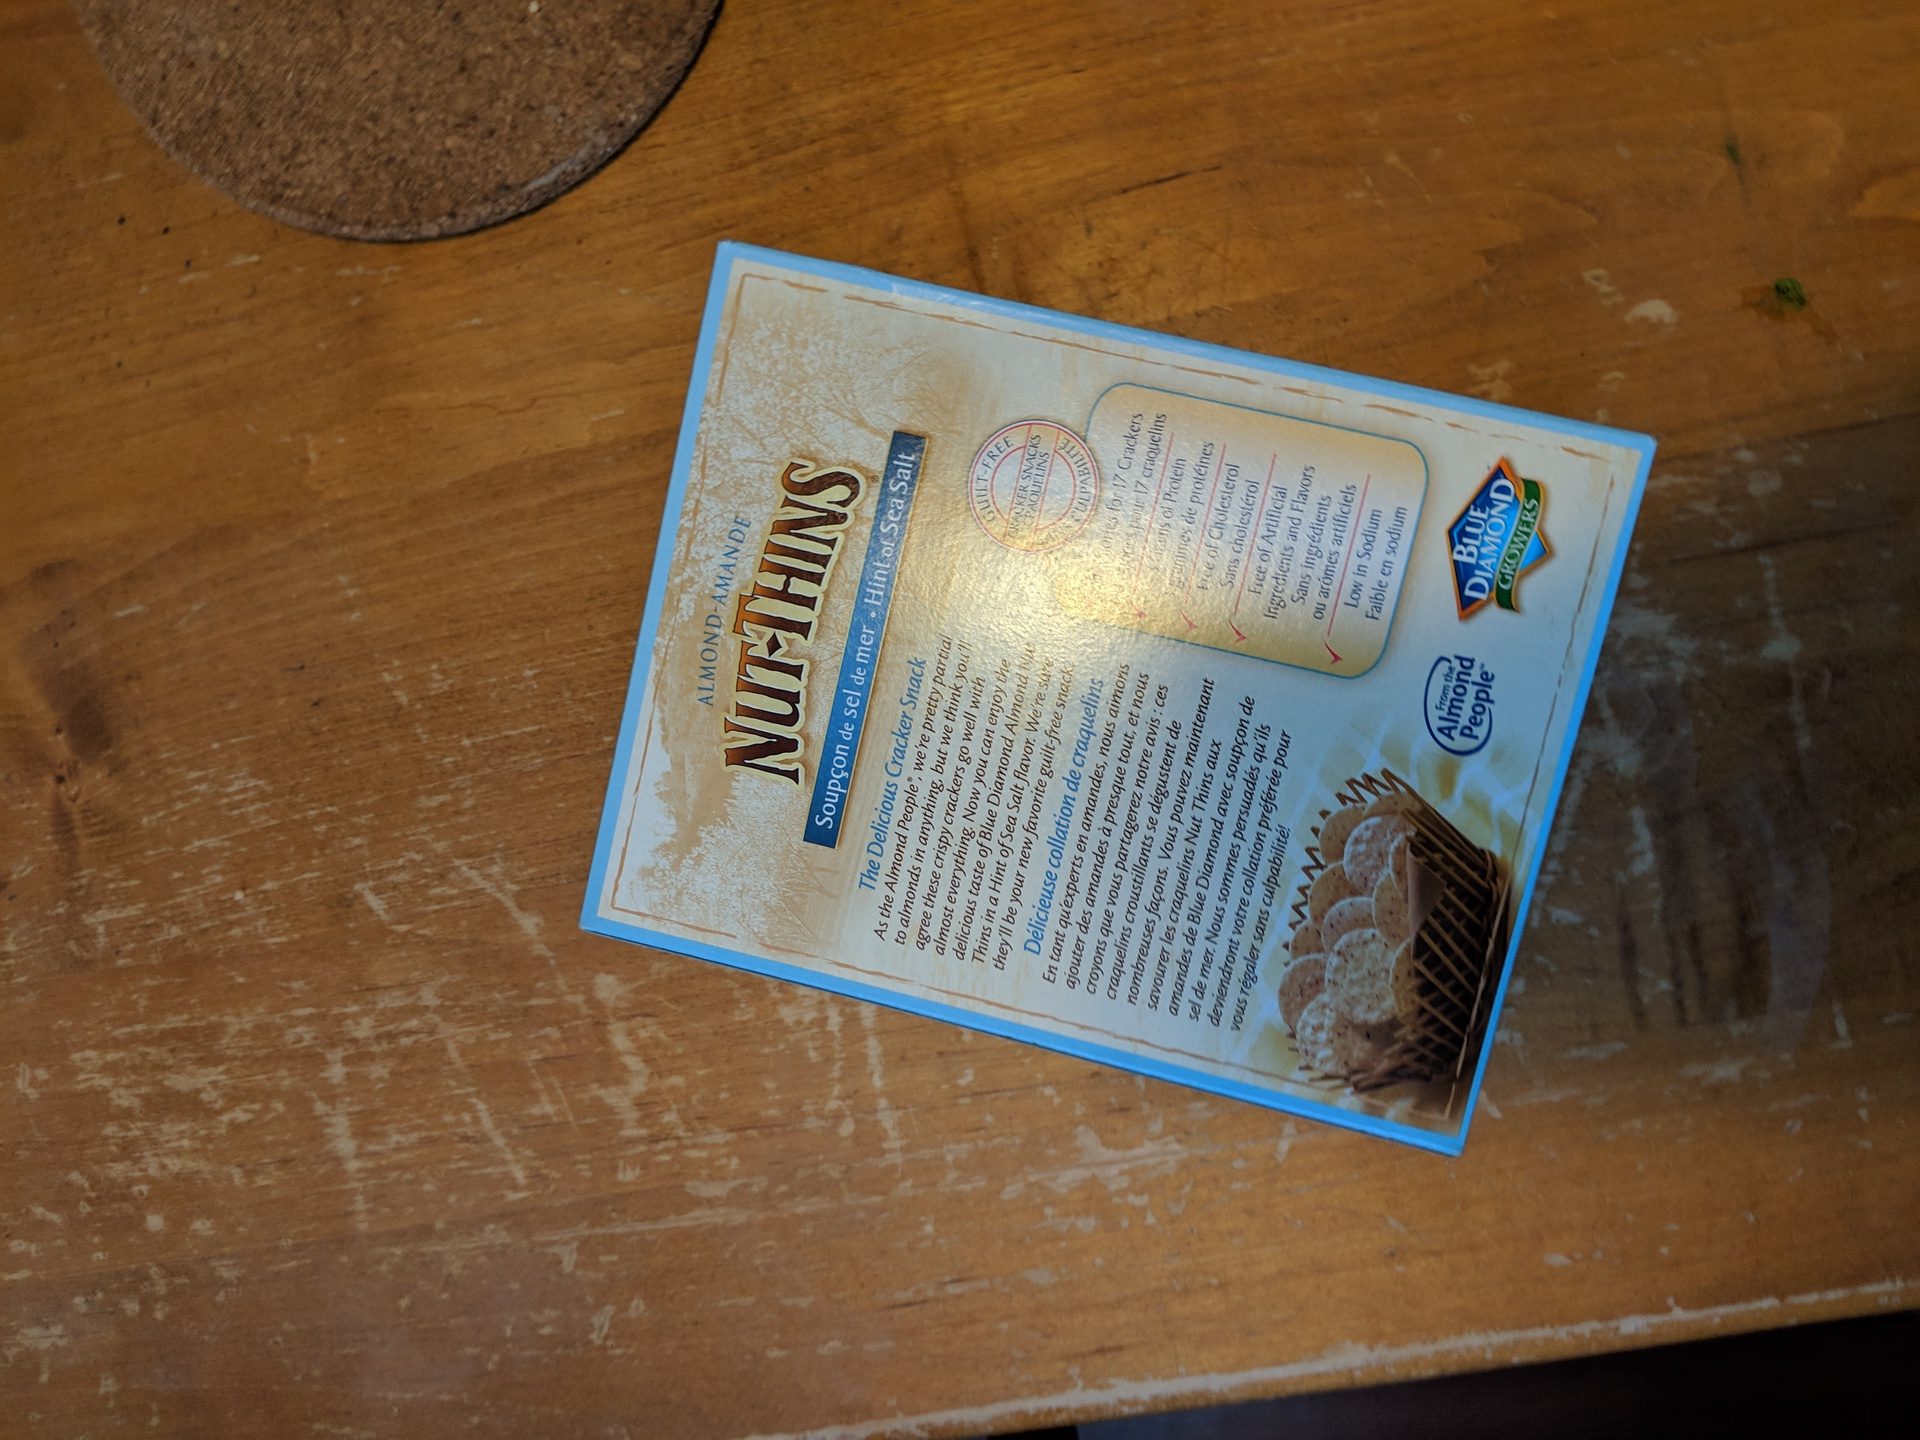blue_diamond_nut_thins_almond_seasalt: (633, 287, 1584, 1077)
